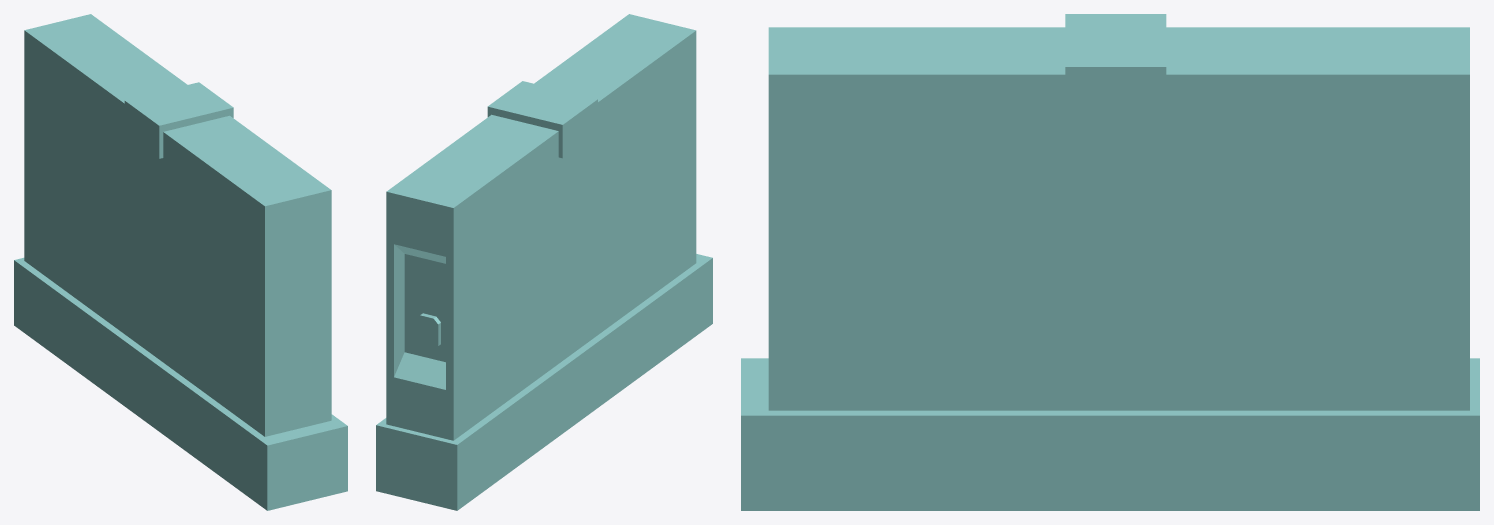
Rendered from TS2_Collider_YanTi_2.FBX.
3 views of the same model, side by side, from view 1: azimuth 30°, elevation 25°; view 2: azimuth 150°, elevation 25°; view 3: azimuth 270°, elevation 25° (orthographic). The views are drawn at different scales.
Visible parts, largest first — view 1: Collider_YanTi_2; view 2: Collider_YanTi_2; view 3: Collider_YanTi_2.
Part boxes in pixels (<box>): Collider_YanTi_2: <box>14,14,347,510</box>; Collider_YanTi_2: <box>376,14,712,510</box>; Collider_YanTi_2: <box>741,14,1479,510</box>.
Bounding box in the file's own units: 0.718 × 2.58 × 3.92.
